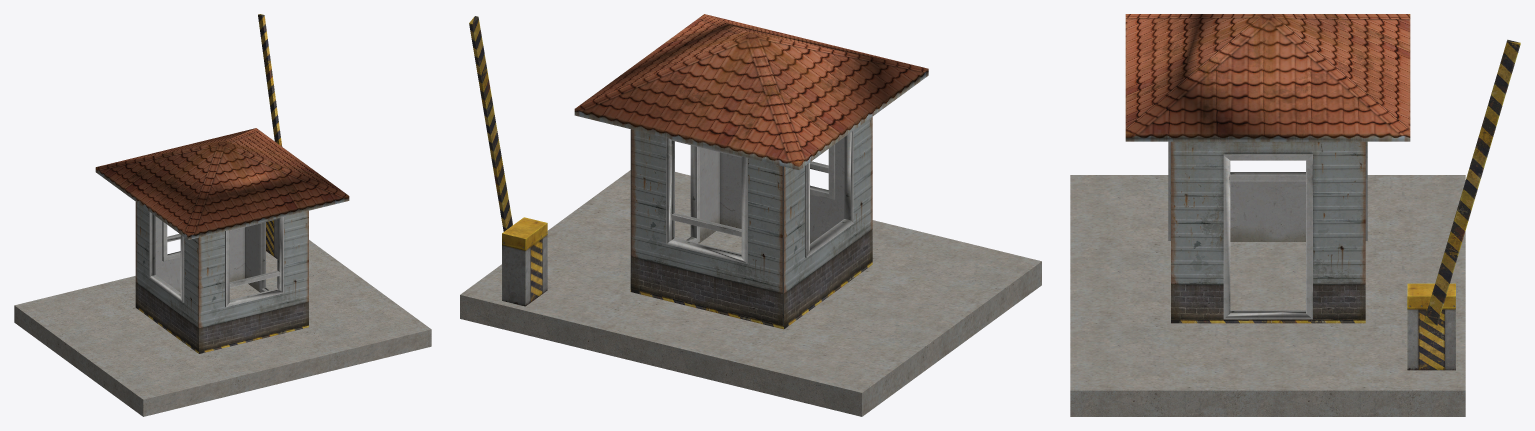
File: Building_Mws01_lod1.glb
3 views of the same model, side by side, from view 1: azimuth 30°, elevation 25°; view 2: azimuth 150°, elevation 25°; view 3: azimuth 270°, elevation 25° (orthographic). The views are drawn at different scales.
Parts seen in each view (by area): view 1: xiutz_mws_01_lod1_0; view 2: xiutz_mws_01_lod1_0; view 3: xiutz_mws_01_lod1_0.
Boxes of the visible parts, <box> form: xiutz_mws_01_lod1_0: <box>14,14,431,416</box>; xiutz_mws_01_lod1_0: <box>460,14,1041,416</box>; xiutz_mws_01_lod1_0: <box>1070,14,1520,416</box>.
Bounding box in the file's own units: 9.48 × 7.33 × 8.36.
2 materials, 2 textured.
